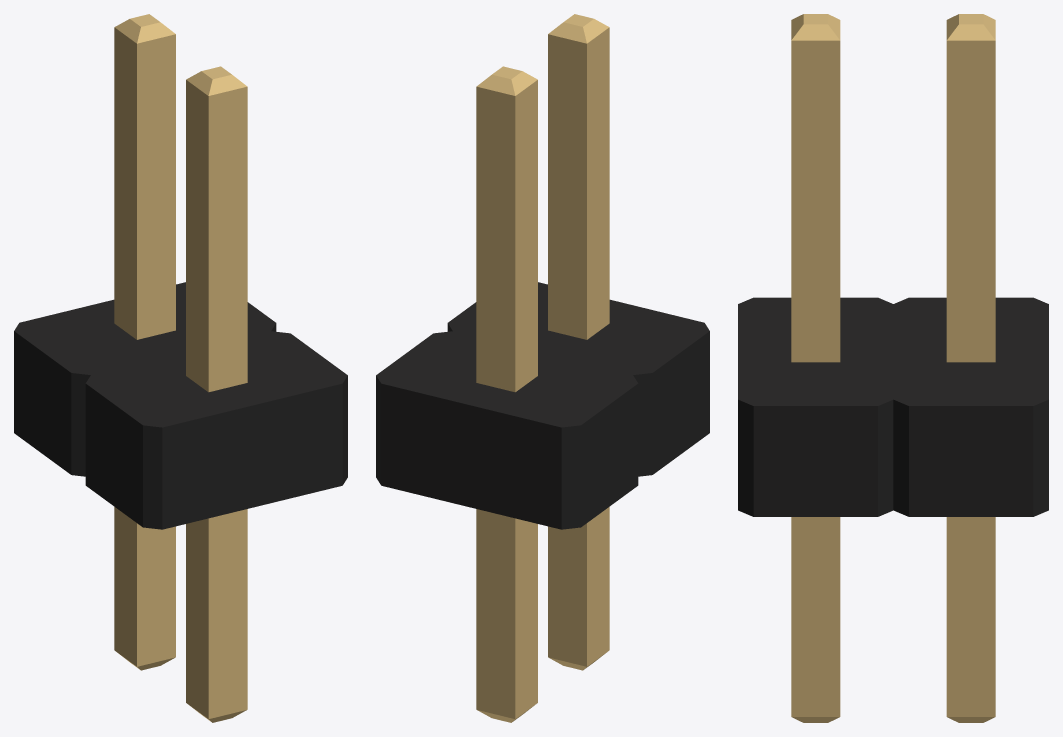
Rendered from PinHeader_1x02_P1.27mm_Vertical.glb.
3 views of the same model, side by side, from view 1: azimuth 30°, elevation 25°; view 2: azimuth 150°, elevation 25°; view 3: azimuth 270°, elevation 25° (orthographic). The views are drawn at different scales.
Visible parts, largest first — view 1: =>[0:1:1:3]; view 2: =>[0:1:1:3]; view 3: =>[0:1:1:3].
Boxes of the visible parts, x1,y1,x2,y2 form: =>[0:1:1:3]: (14, 14, 347, 722); =>[0:1:1:3]: (376, 14, 709, 722); =>[0:1:1:3]: (738, 14, 1048, 722).
Bounding box in the file's own units: 0.0021 × 0.0063 × 0.00254.
